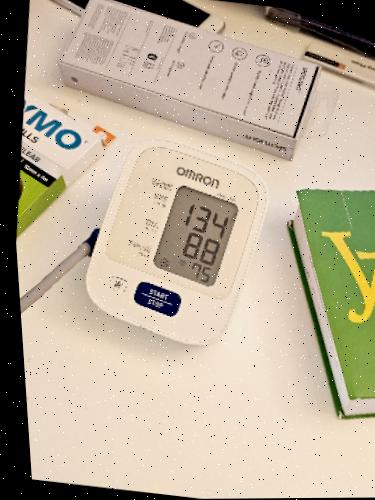bpm: (149, 183, 242, 288)
